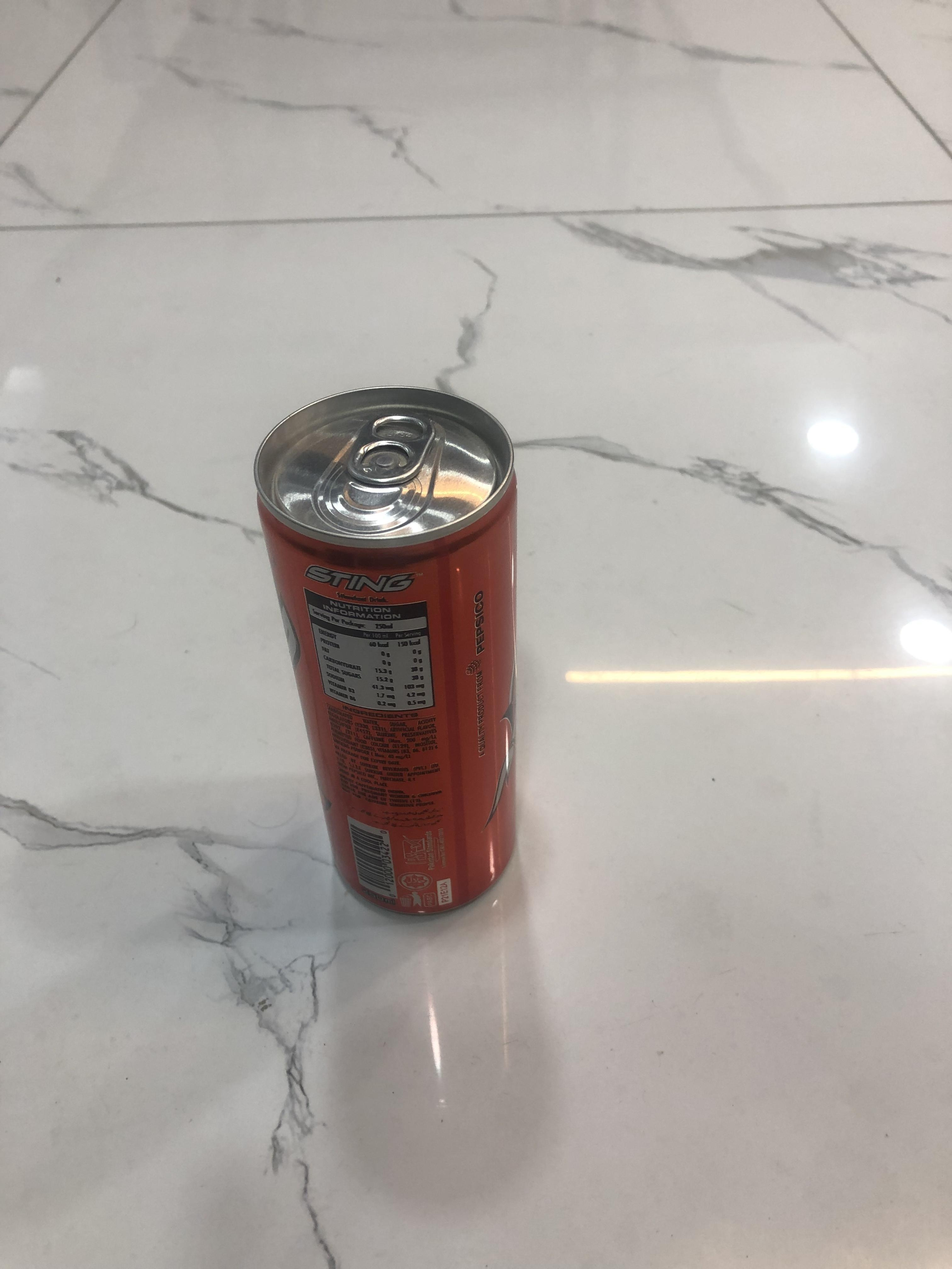tin can: (244, 379, 527, 925)
